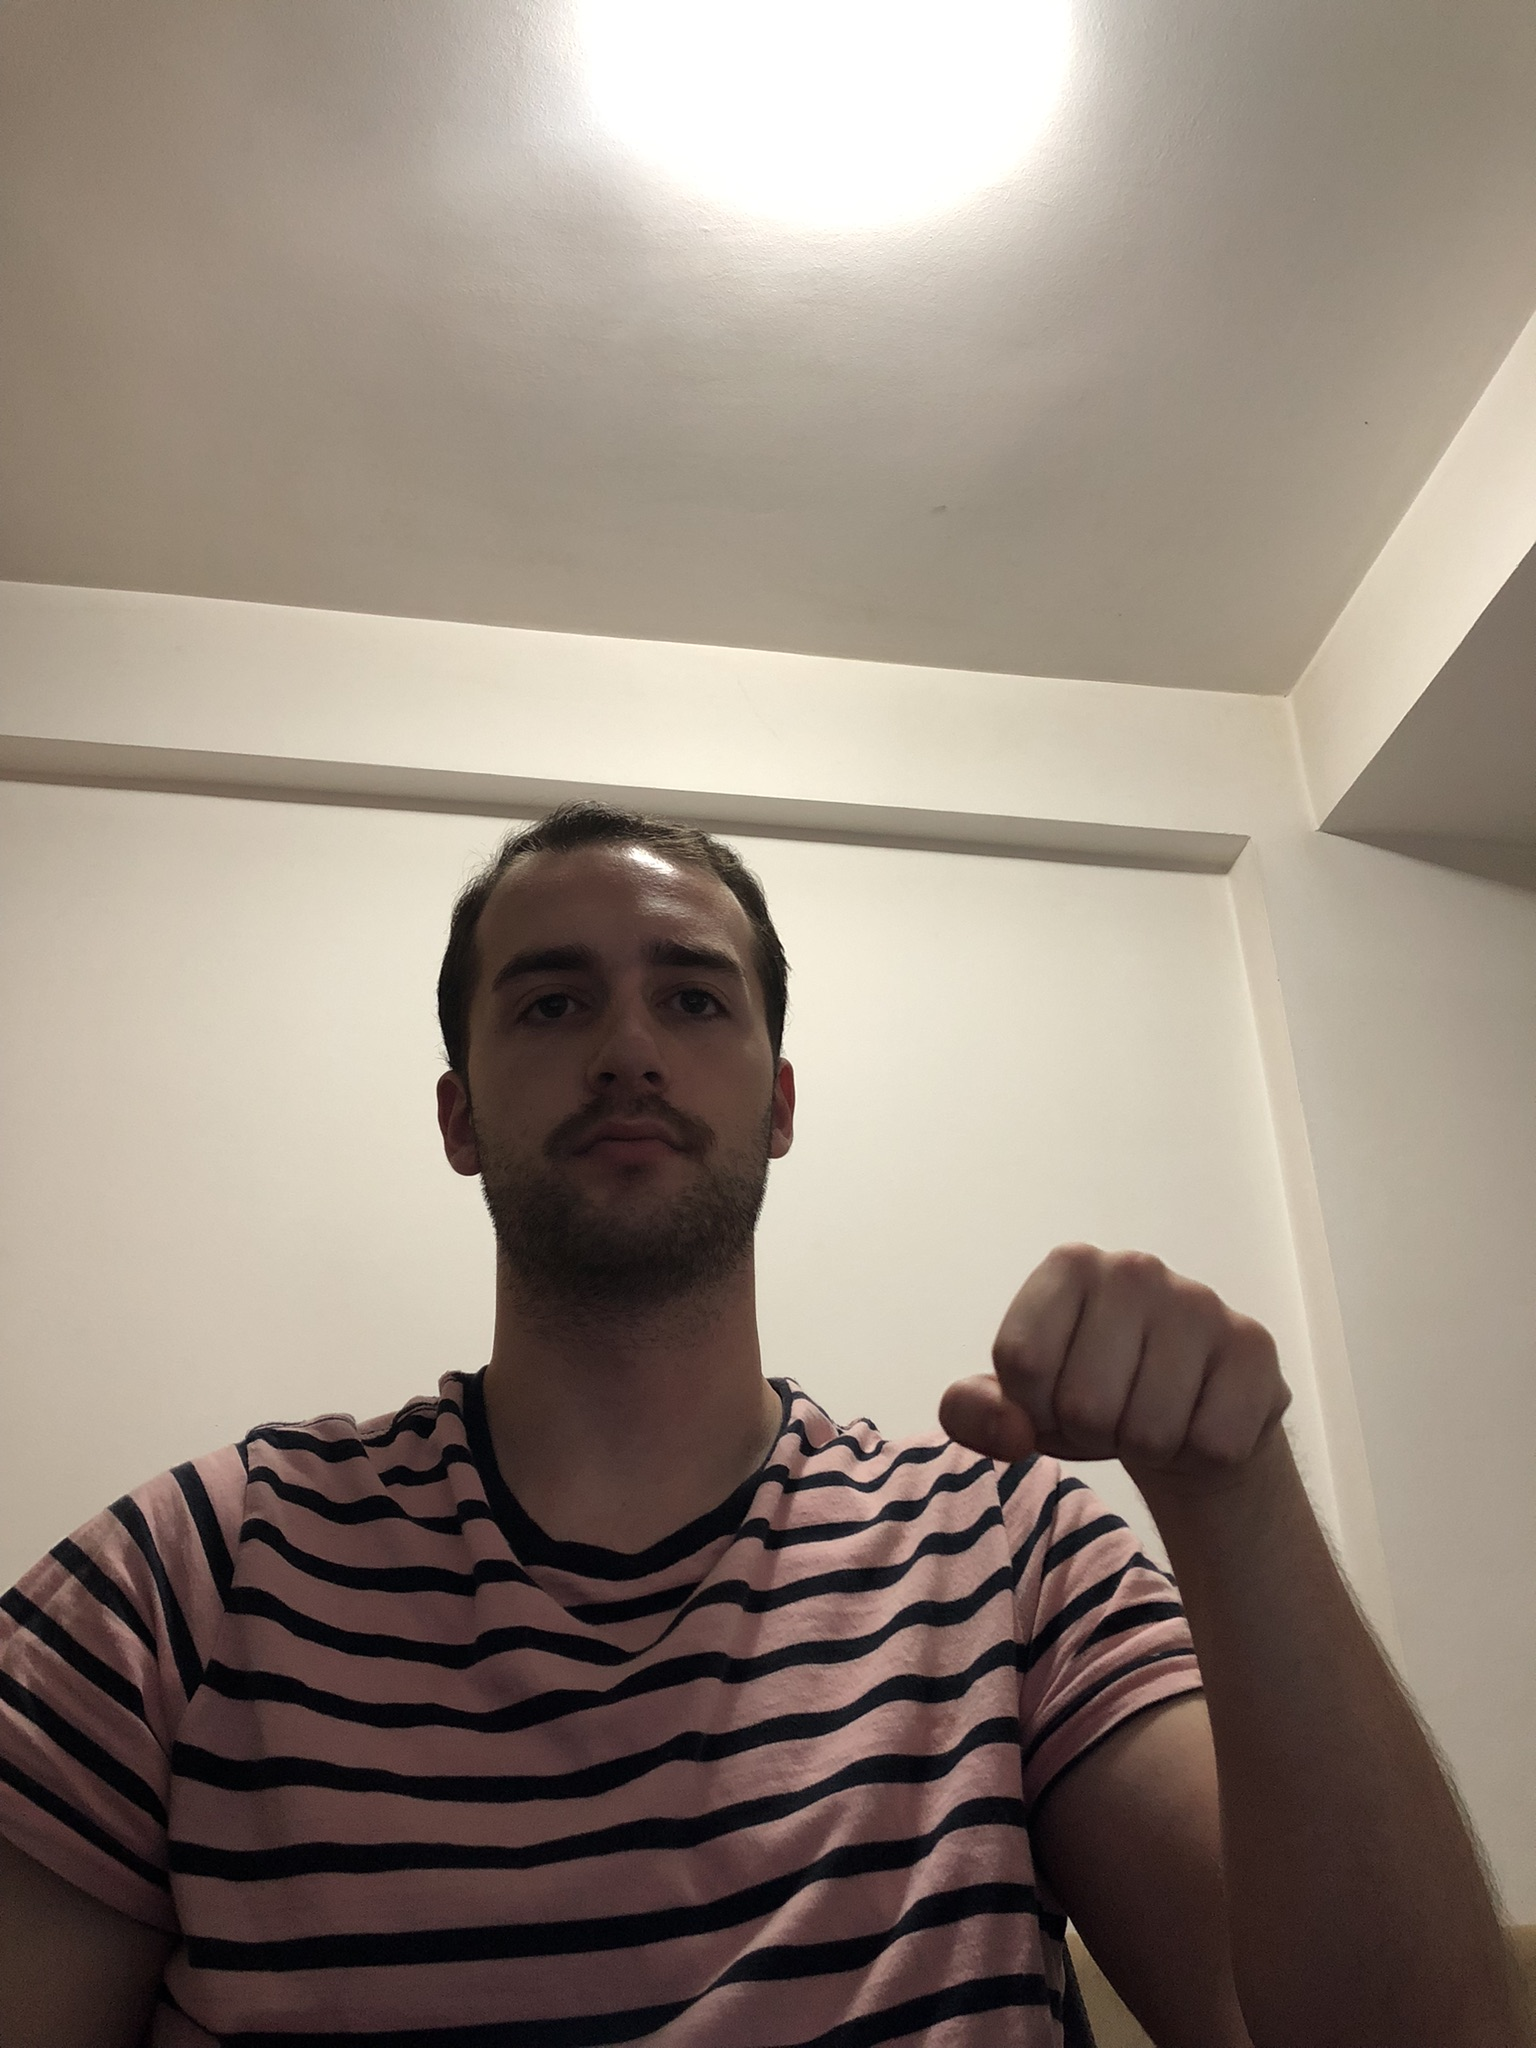Yes: (937, 1234, 1307, 1521)
